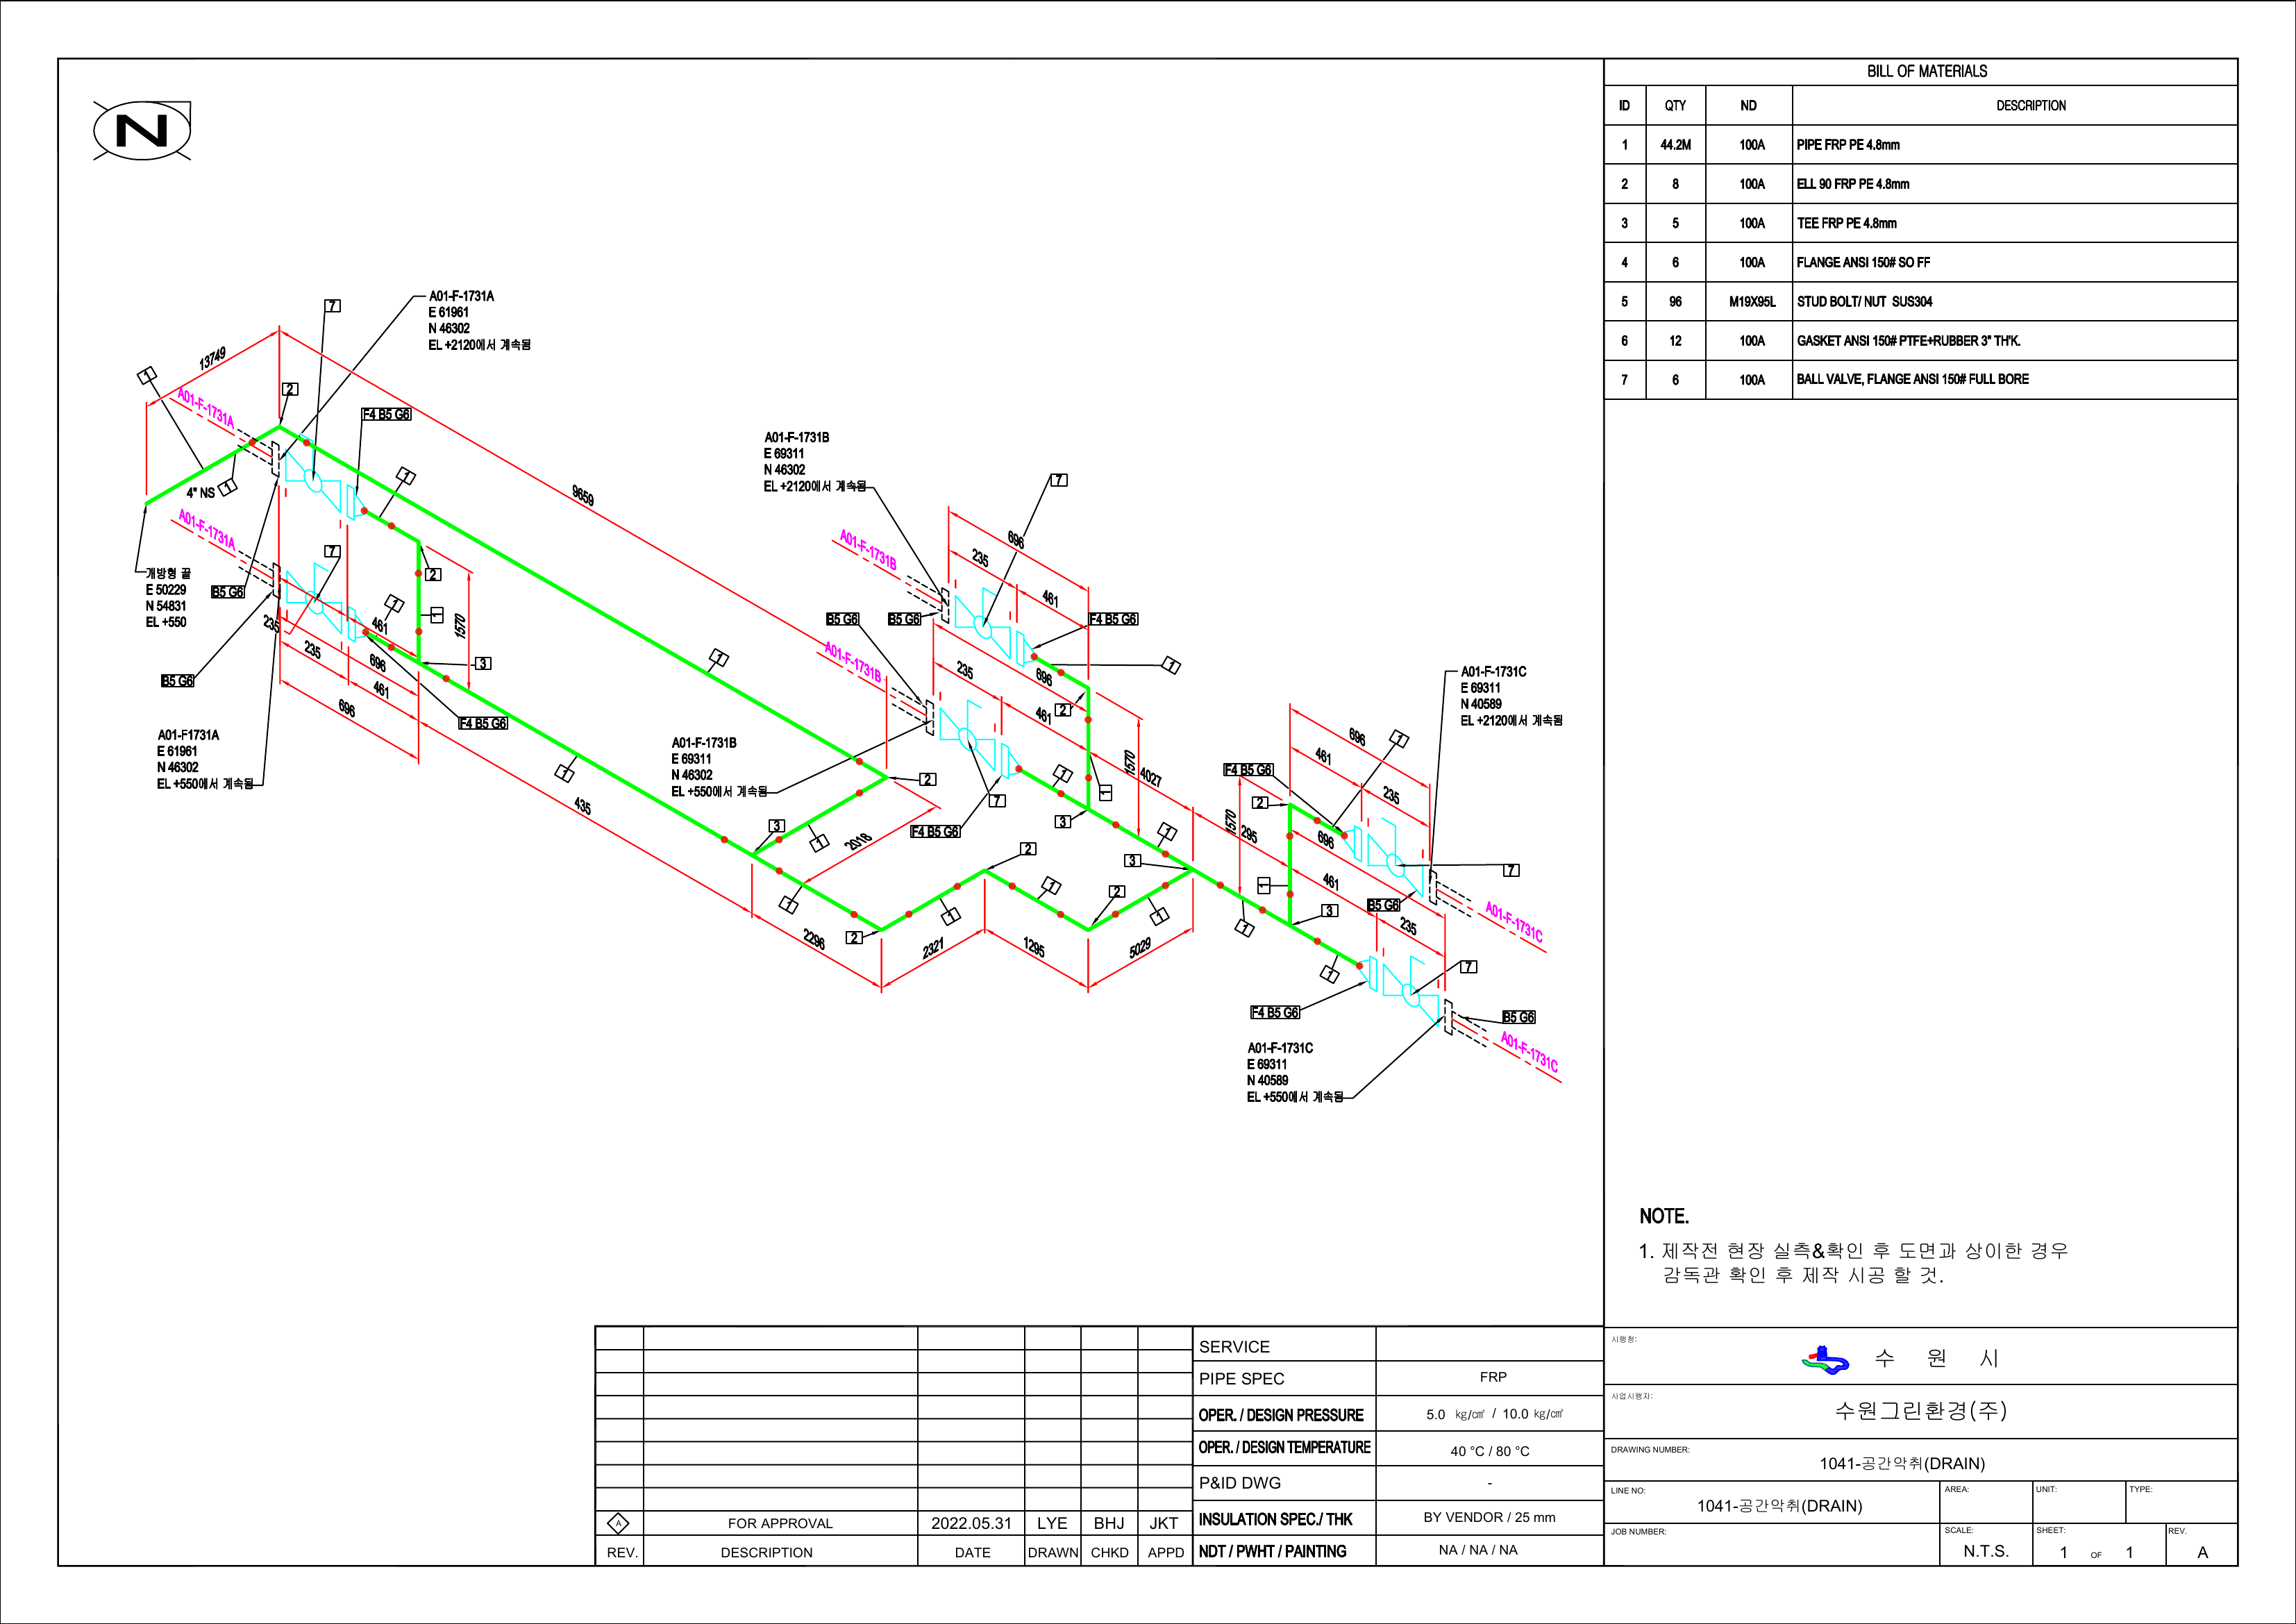table: (1599, 47, 2245, 406)
